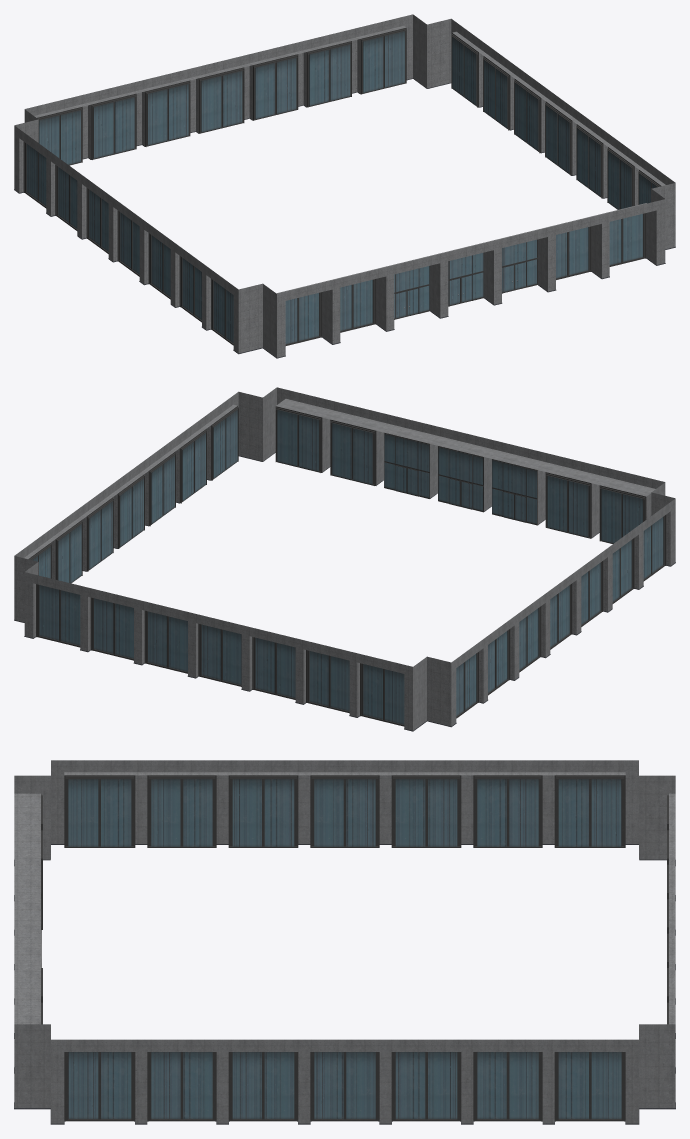
File: jctBld50A_btm.fbx
3 views of the same model, one above another, from view 1: azimuth 30°, elevation 25°; view 2: azimuth 150°, elevation 25°; view 3: azimuth 270°, elevation 25° (orthographic). The views are drawn at different scales.
Visible parts, largest first — view 1: jctBld50A_btm_LOD0; view 2: jctBld50A_btm_LOD0; view 3: jctBld50A_btm_LOD0.
Part boxes in pixels (box(x1,y1,x2,y2)): jctBld50A_btm_LOD0: box(14, 14, 675, 358); jctBld50A_btm_LOD0: box(14, 387, 675, 731); jctBld50A_btm_LOD0: box(14, 760, 675, 1124).
Bounding box in the file's own units: 4954 × 700 × 4954.
